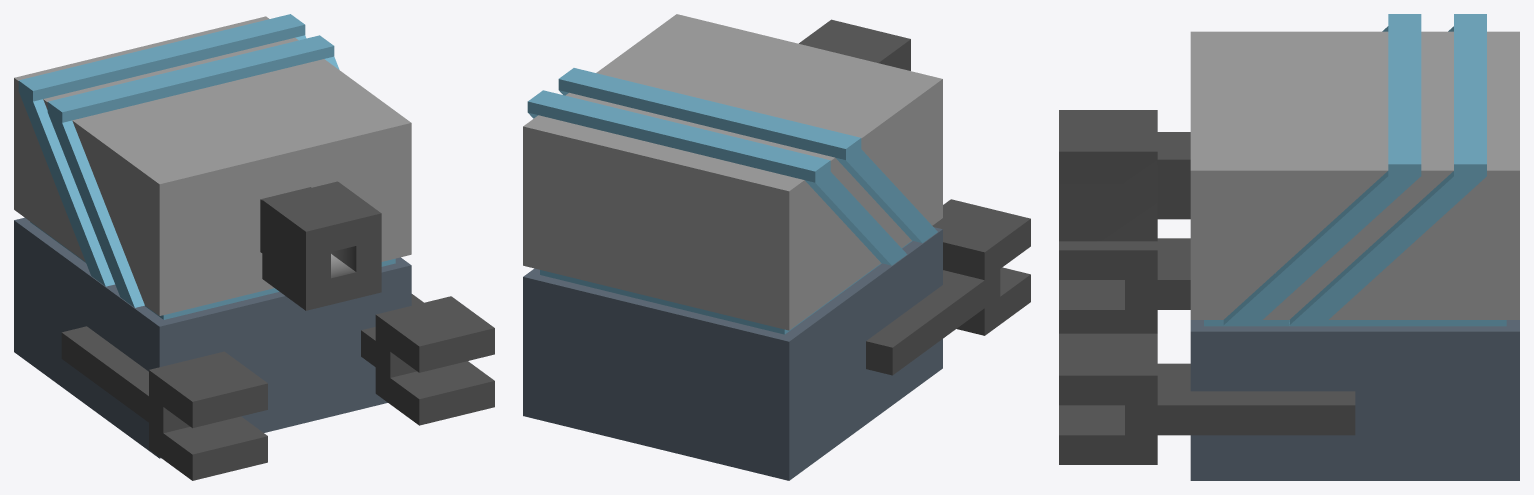
Rendered from Worker_v2.gltf.
3 views of the same model, side by side, from view 1: azimuth 30°, elevation 25°; view 2: azimuth 150°, elevation 25°; view 3: azimuth 270°, elevation 25° (orthographic). The views are drawn at different scales.
Visible parts, largest first — view 1: Head, Lower body, Arms, PlayerColor, Cannon; view 2: Head, Lower body, PlayerColor, Arms, Cannon; view 3: Head, Lower body, Arms, PlayerColor, Cannon.
Boxes of the visible parts, x1=… form: Head: x1=14, y1=16, x2=411, y2=315; Lower body: x1=14, y1=217, x2=411, y2=458; Arms: x1=61, y1=294, x2=494, y2=480; PlayerColor: x1=18, y1=14, x2=395, y2=319; Cannon: x1=260, y1=181, x2=381, y2=310; Head: x1=523, y1=14, x2=942, y2=330; Lower body: x1=523, y1=227, x2=942, y2=480; PlayerColor: x1=527, y1=68, x2=937, y2=334; Arms: x1=866, y1=199, x2=1030, y2=375; Cannon: x1=799, y1=19, x2=910, y2=70; Head: x1=1190, y1=31, x2=1519, y2=319; Lower body: x1=1190, y1=320, x2=1519, y2=480; Arms: x1=1059, y1=238, x2=1355, y2=464; PlayerColor: x1=1204, y1=14, x2=1506, y2=326; Cannon: x1=1059, y1=110, x2=1190, y2=241.
Size of the model in its own units: 0.36 by 0.324 by 0.42.
